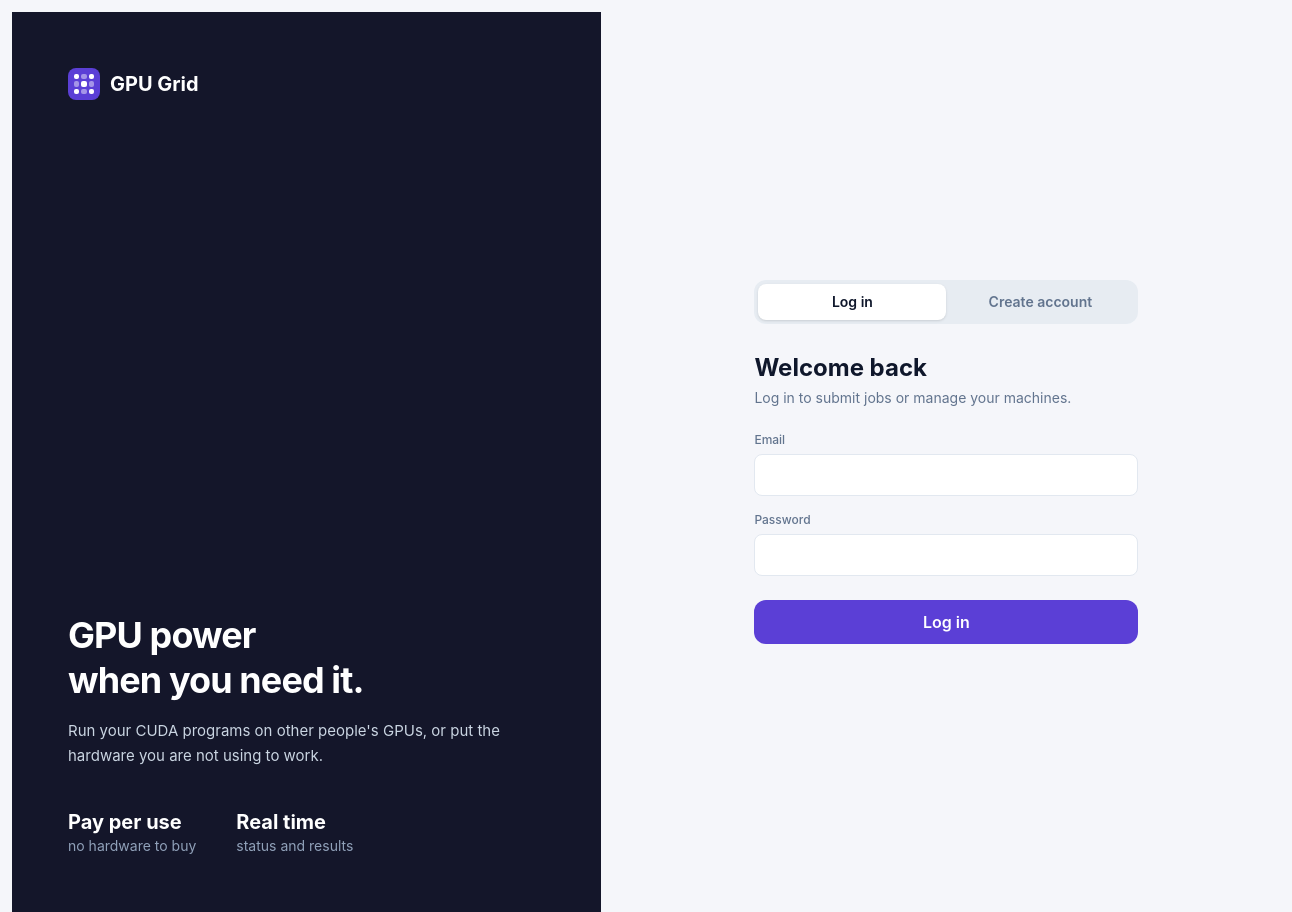
Scenario: AuthPage › opens the home page of the user after logging in
Type "ana@gpugrid.dev" into the field labelled "Email" at {"x": 946, "y": 475}, box [754,454,1138,496]
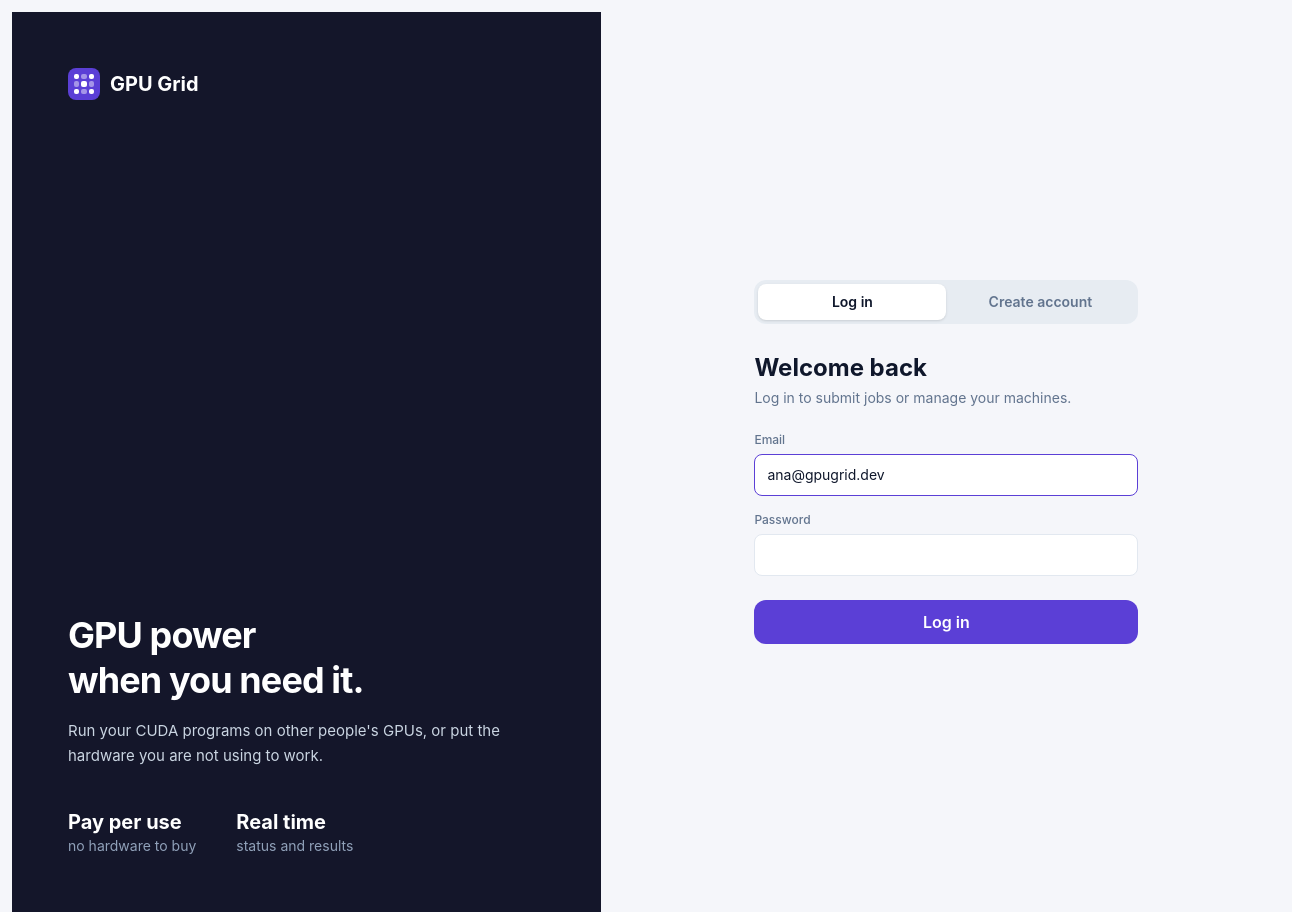
Type "password123" into the password field labelled "Password" at {"x": 946, "y": 555}, box [754,534,1138,576]
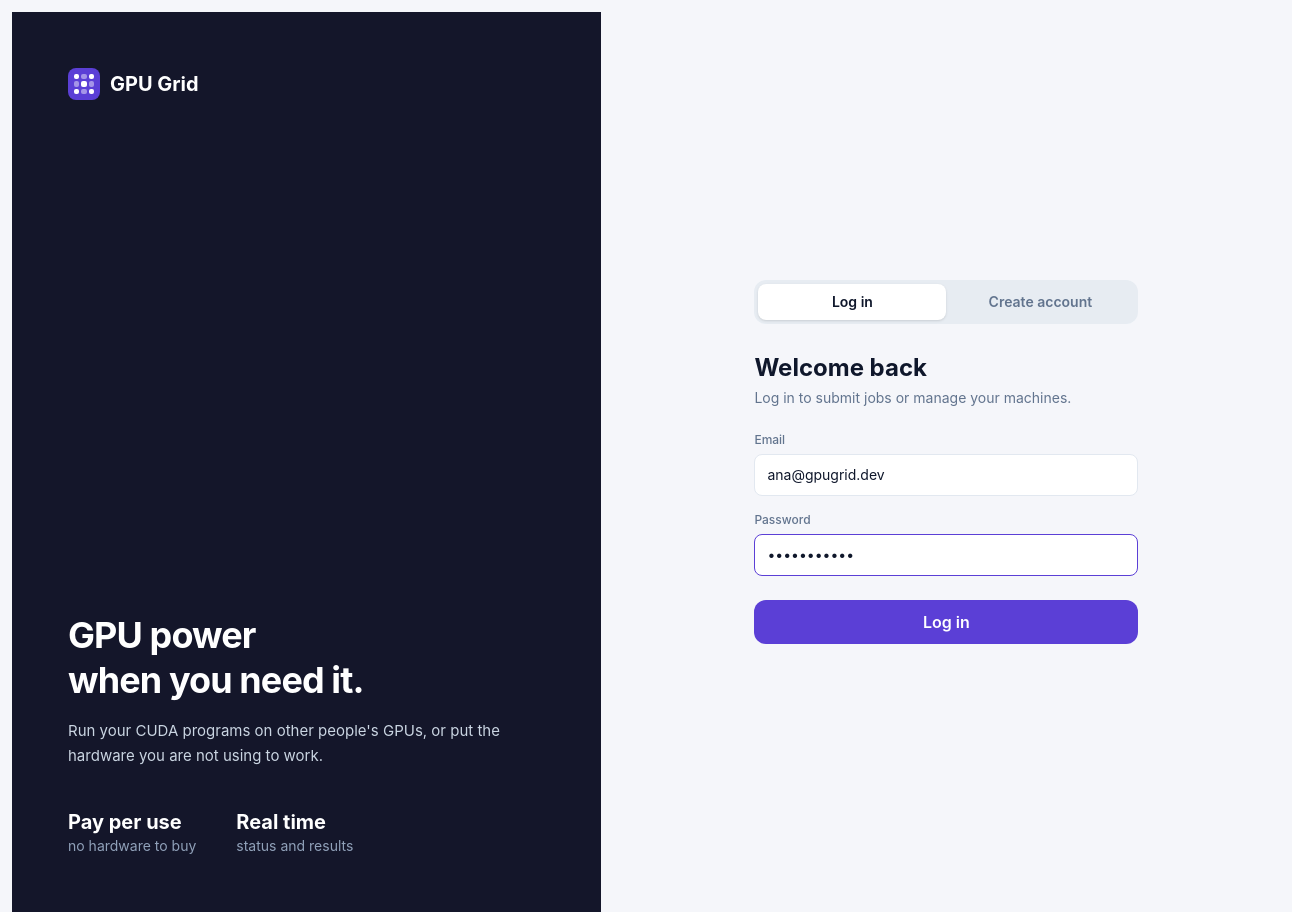
Click the button "Log in" at {"x": 946, "y": 622}, box [754,600,1138,644]
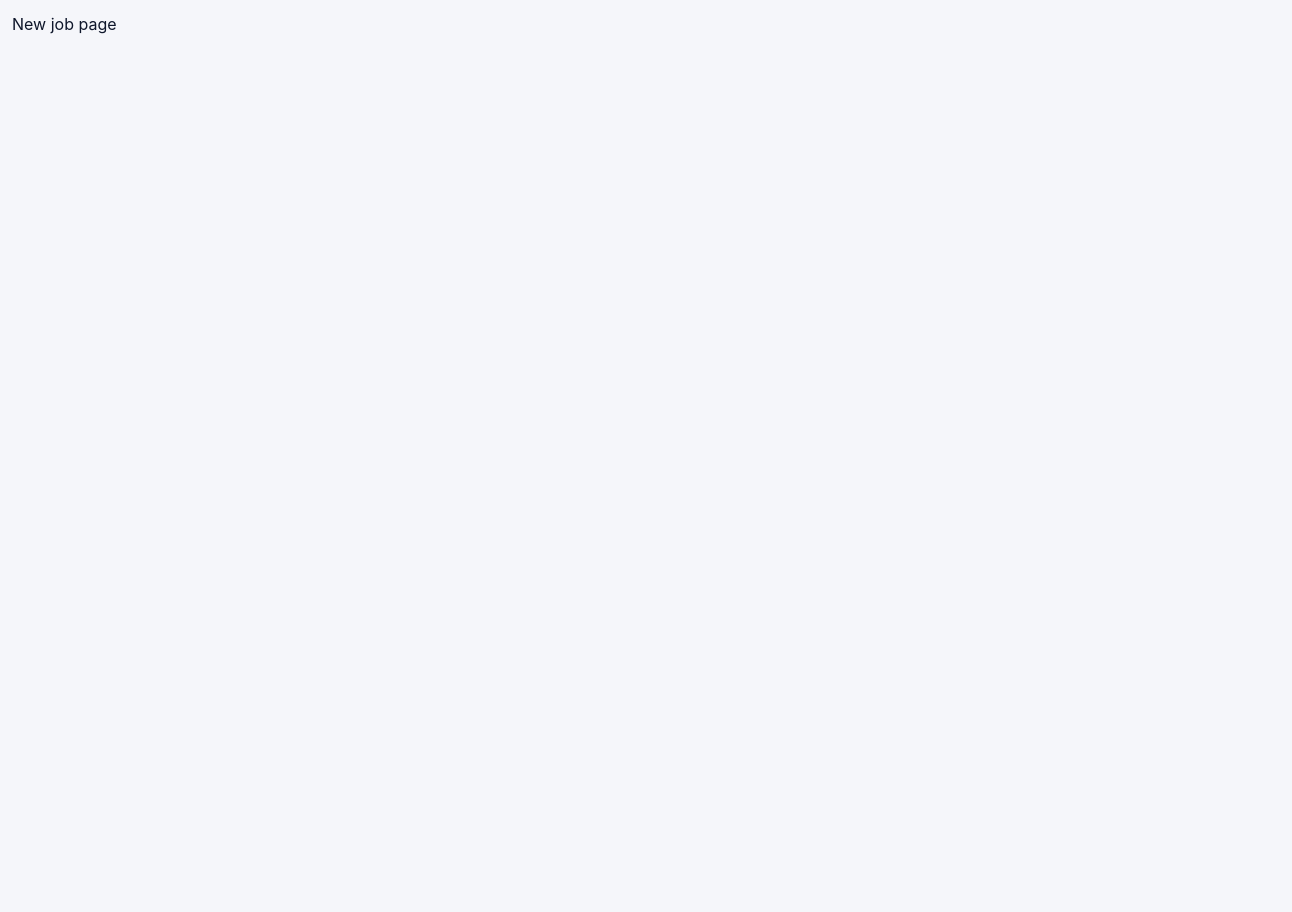
Expected: the text "New job page" is shown, [12,14,116,34]
